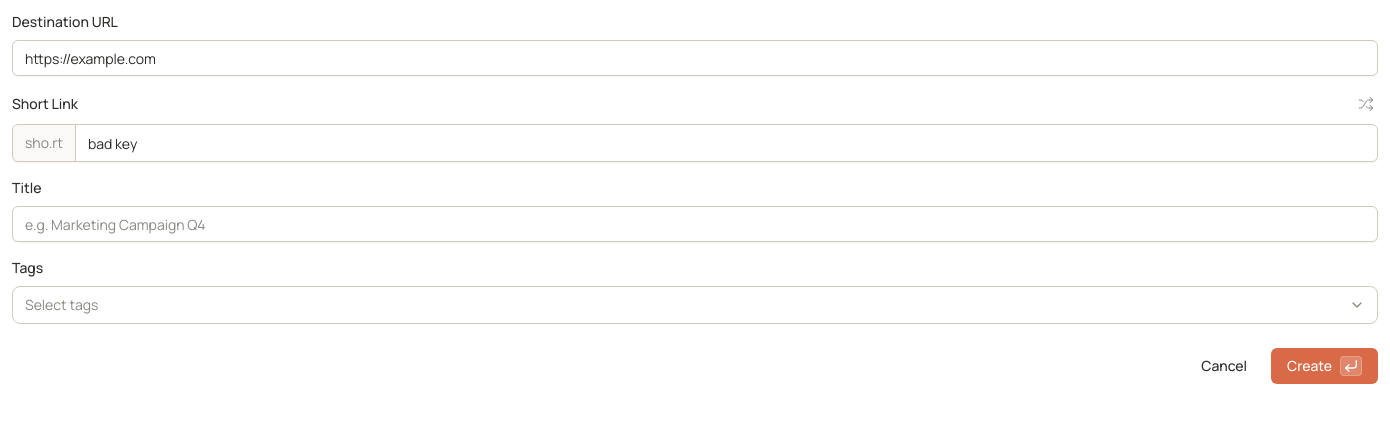
Test case: LinkFormFields › submission › does not submit a key with forbidden characters
Click the button "Create" at (1325, 366), box [1271,348,1378,384]
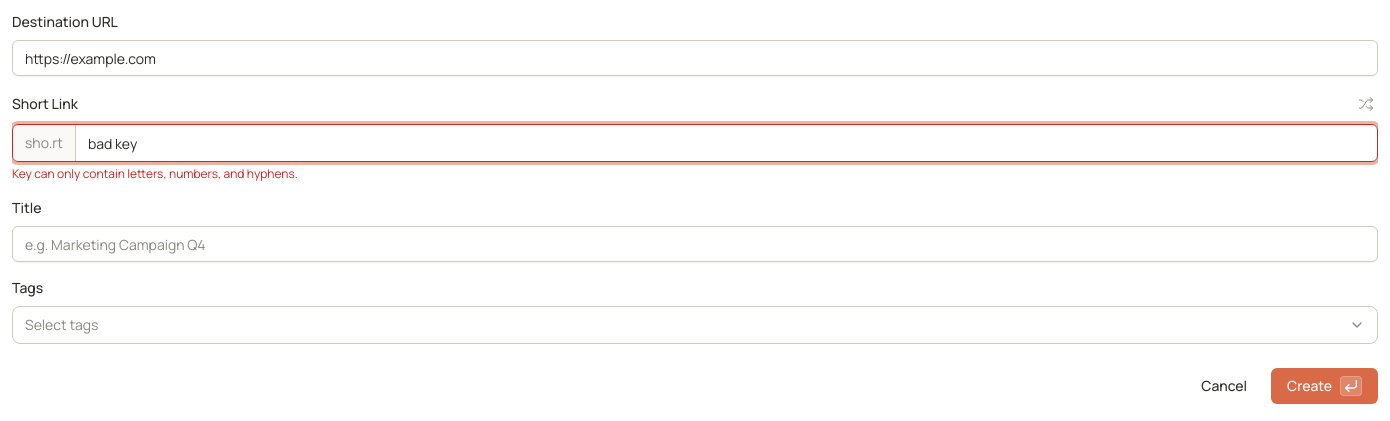
Check: the text "Key can only contain letters, numbers, and hyphens." is shown, box [12,165,298,182]
